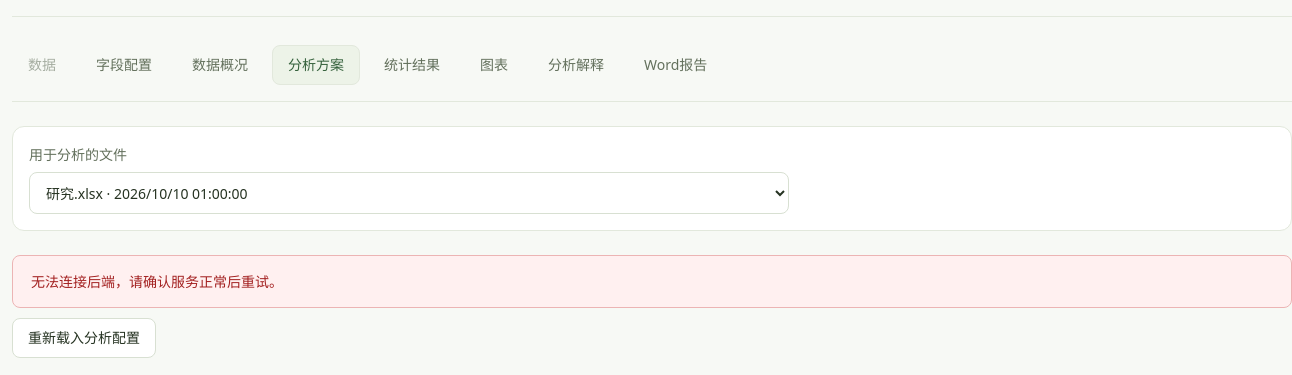
Test: a controlled plan deep link exposes initial configuration failure and read-only recovery
Expected: the message shows "无法连接后端", top-left (31, 272), bottom-right (283, 291)
Click the button "重新载入分析配置" at {"x": 84, "y": 338}, box top-left (12, 318), bottom-right (156, 358)
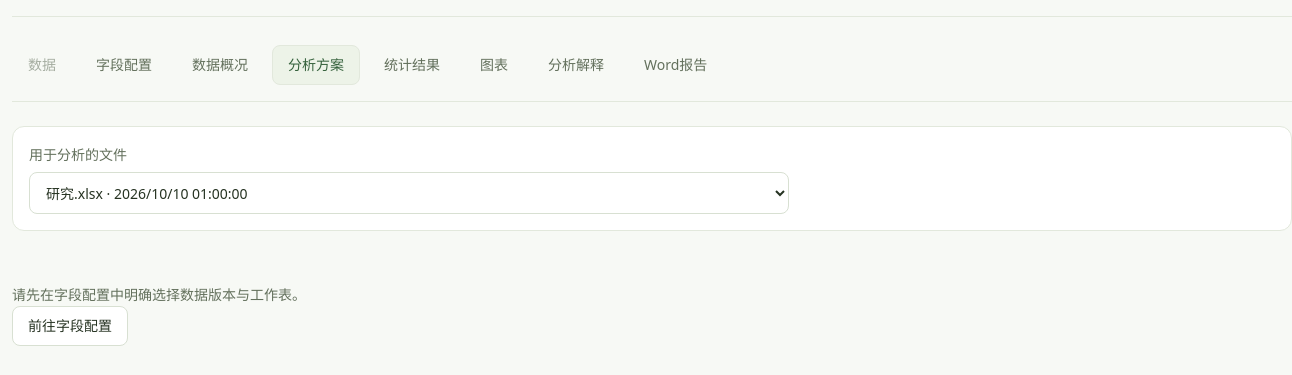
Expected: the dropdown labelled "用于分析的文件" shows "研究.xlsx · 2026/10/10 01:00:00", top-left (29, 172), bottom-right (789, 214)
Now the message "无法连接后端，请确认服务正常后重试。" is gone
